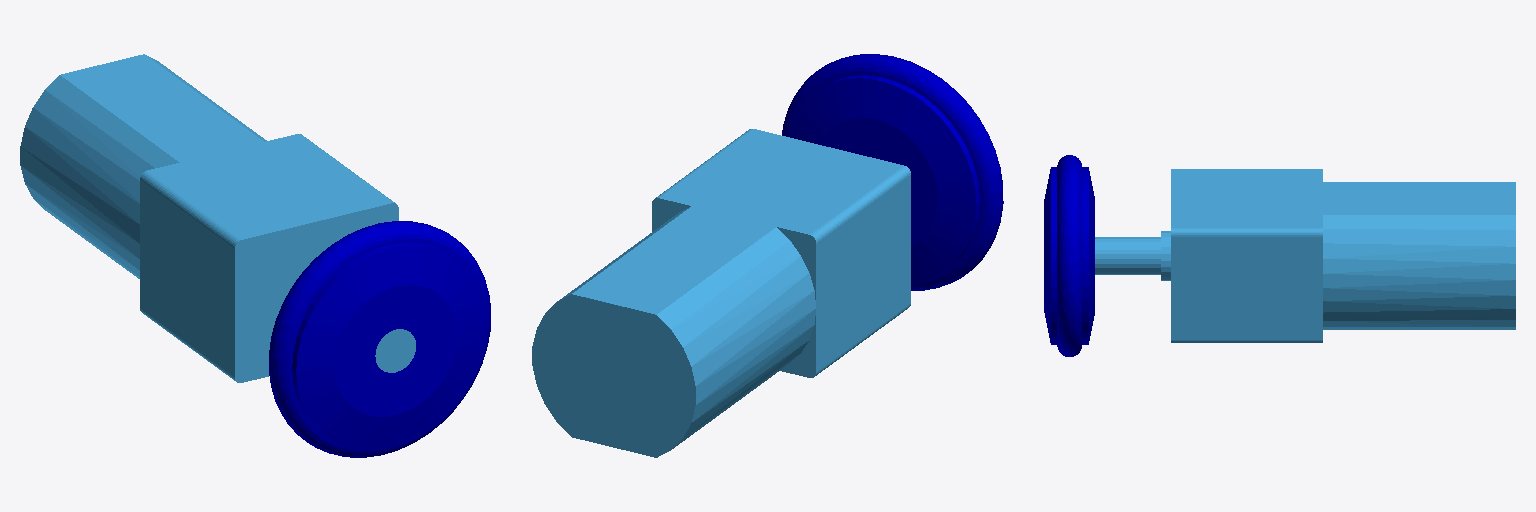
The robot description file, URDF, robot "wheel_with_motor":
<robot name="wheel_with_motor">

  <!-- Materials -->
  <material name="blue">
    <color rgba = "0 0 0.8 1"/>
  </material>

  <!-- Links -->
  <link name="wheel">
    <visual>
      <origin rpy="0.0 0 0" xyz="-8 0 -8"/>
      <geometry>
        <mesh filename="wheel.stl" scale="1.00 1.00 1.00"/>
      </geometry>
      <material name="blue"/>
    </visual>
    <collision>
      <origin rpy="0.0 0 0" xyz="-8 0 -8"/>
      <geometry>
        <mesh filename="wheel.stl" scale="1.00 1.00 1.00"/>
      </geometry>
    </collision>
  </link>

  <link name="motor">
    <visual>
      <origin rpy="0.0 0 1.5708" xyz="6 0 -5"/>
      <geometry>
        <mesh filename="motor.stl" scale="1.00 1.00 1.00"/>
      </geometry>
    </visual>
    <collision>
      <origin rpy="0.0 0 1.5708" xyz="6 0 -5"/>
      <geometry>
        <mesh filename="motor.stl" scale="1.00 1.00 1.00"/>
      </geometry>
    </collision>
  </link>

  <!-- Joints -->
  <joint name="joint1" type="continuous">
    <parent link="wheel"/>
    <child link="motor"/>
    <axis xyz="0 1 0"/>
    <origin rpy="0.0 0 0" xyz="0 0 0"/>
  </joint>

</robot>

--- Facts derived from the render (not from the file) ---
Views: 3 orthographic renders of the robot side by side, from view 1: azimuth 30°, elevation 25°; view 2: azimuth 150°, elevation 25°; view 3: azimuth 270°, elevation 25°.
Robot: wheel_with_motor — 2 links, 1 joints (1 continuous); root link wheel; default pose: all joints at 0.
Links seen in each view (by area): view 1: motor, wheel; view 2: motor, wheel; view 3: motor, wheel.
Link boxes in pixels (left/top/right/bottom): motor: left=20, top=54, right=415, bottom=382; wheel: left=269, top=221, right=490, bottom=457; motor: left=532, top=129, right=910, bottom=457; wheel: left=782, top=54, right=1003, bottom=290; motor: left=1095, top=169, right=1515, bottom=342; wheel: left=1044, top=155, right=1094, bottom=356.
Size in the robot's own frame: 15.96 by 37.2 by 15.99 metres.
Meshes: 2 distinct files referenced, 2 mesh visuals loaded (2 binary STL).
